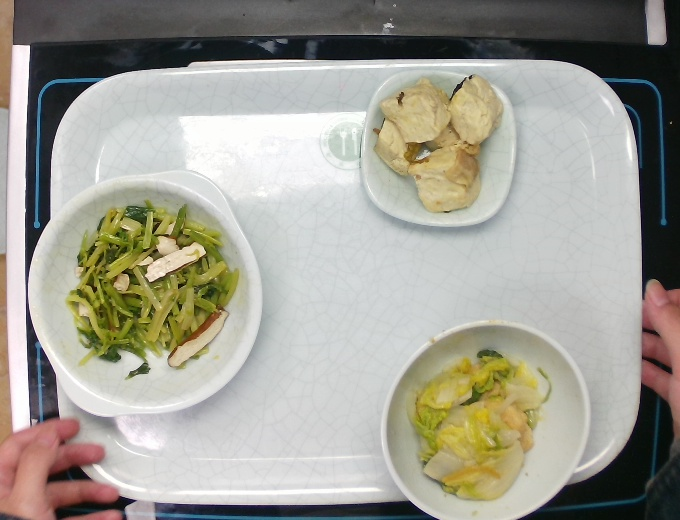JYsf-Fan_Wan: (375, 314, 599, 520)
JYsf-Shuang_Er_Wan: (25, 165, 271, 427)
JYsf-Si_Fang_Die: (354, 58, 520, 234)
